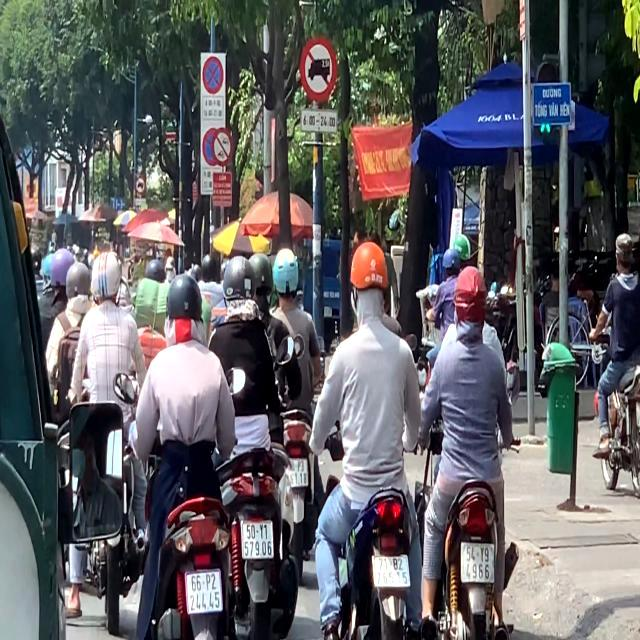Cam dung xe va do xe: (202, 56, 224, 94), (136, 176, 146, 194)
Cam xe tai tren 2_5: (300, 36, 338, 102)
